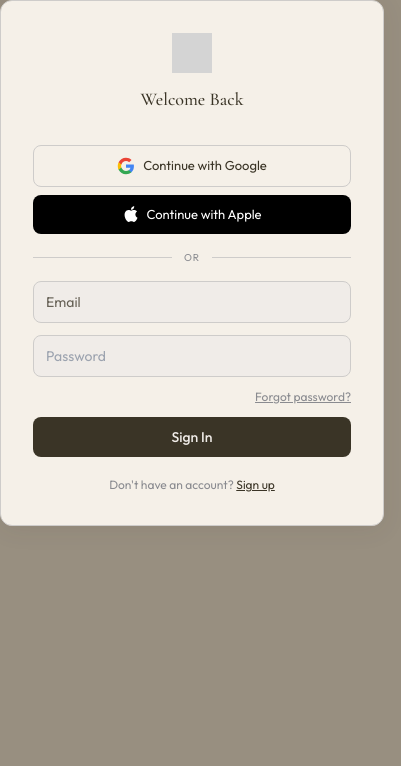
Test: AuthCard verify-password › reveals the verify field once the user types a password
Click the button "Sign up" at (256, 485), box [236,477,275,493]
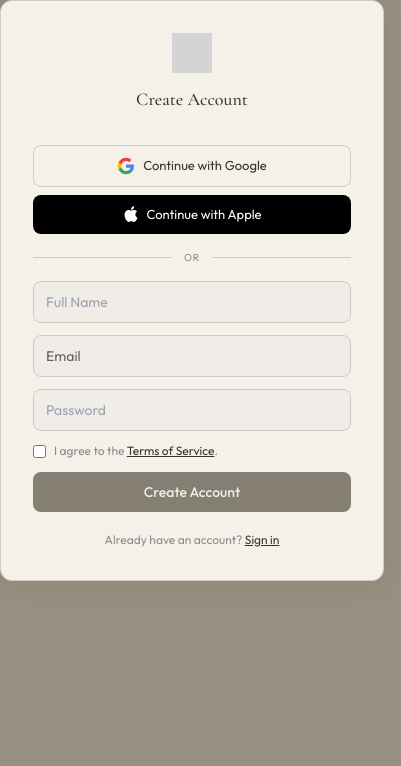
Type "secret1" into the password field with placeholder "Password" at (192, 410), box [33,389,351,431]
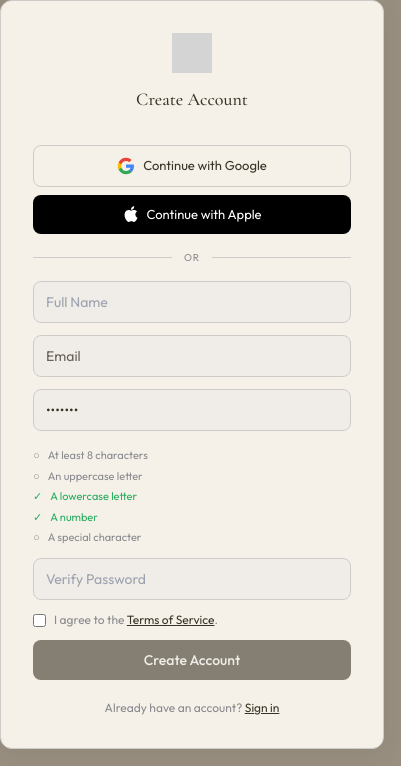
expect the password field labelled "Verify Password" is shown: met, box [33,558,351,600]
